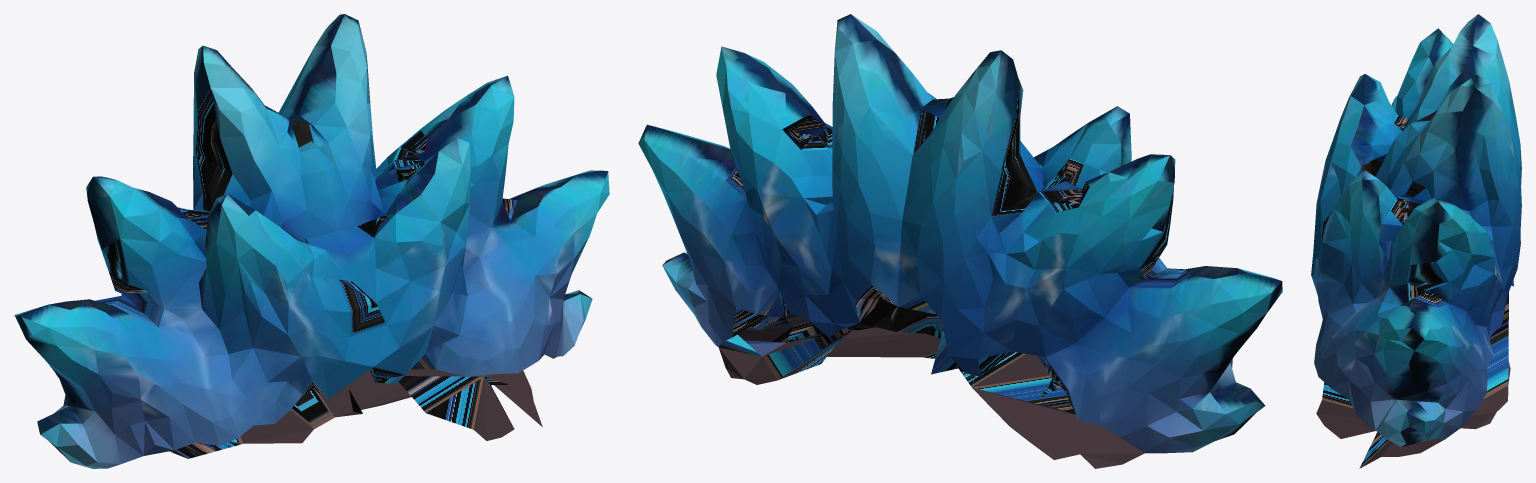
File: hairstyle_072.glb
3 views of the same model, side by side, from view 1: azimuth 30°, elevation 25°; view 2: azimuth 150°, elevation 25°; view 3: azimuth 270°, elevation 25° (orthographic). The views are drawn at different scales.
Visible parts, largest first — view 1: geometry_0_072; view 2: geometry_0_072; view 3: geometry_0_072.
Boxes of the visible parts, left/top/right/bottom form: geometry_0_072: left=14, top=14, right=609, bottom=468; geometry_0_072: left=638, top=14, right=1282, bottom=468; geometry_0_072: left=1311, top=14, right=1521, bottom=468.
Size of the model in its own units: 0.9163 by 0.591 by 0.3307.
Materials: 1 (1 with a texture image).
